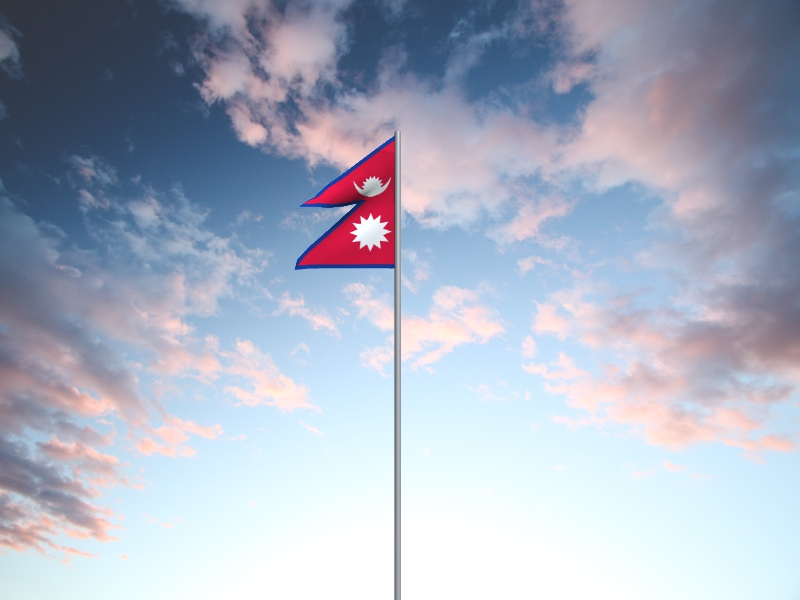np: (292, 135, 395, 270)
